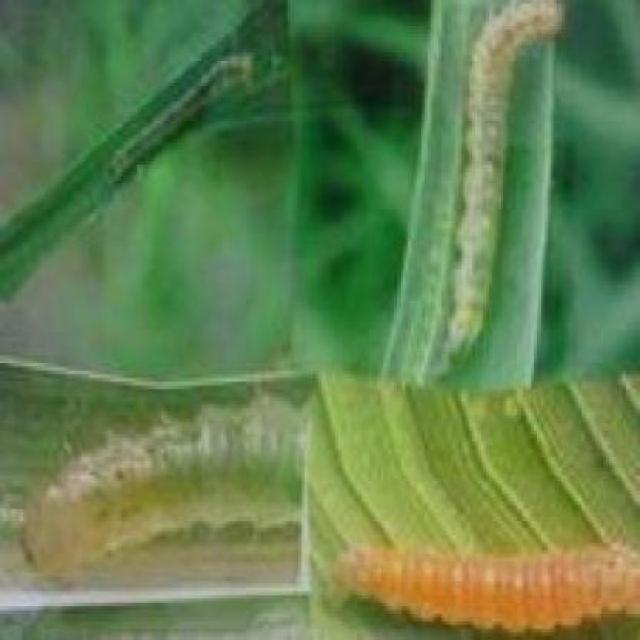leaf-folder: (39, 385, 293, 637), (418, 2, 576, 363), (334, 466, 640, 640), (91, 12, 247, 215)
